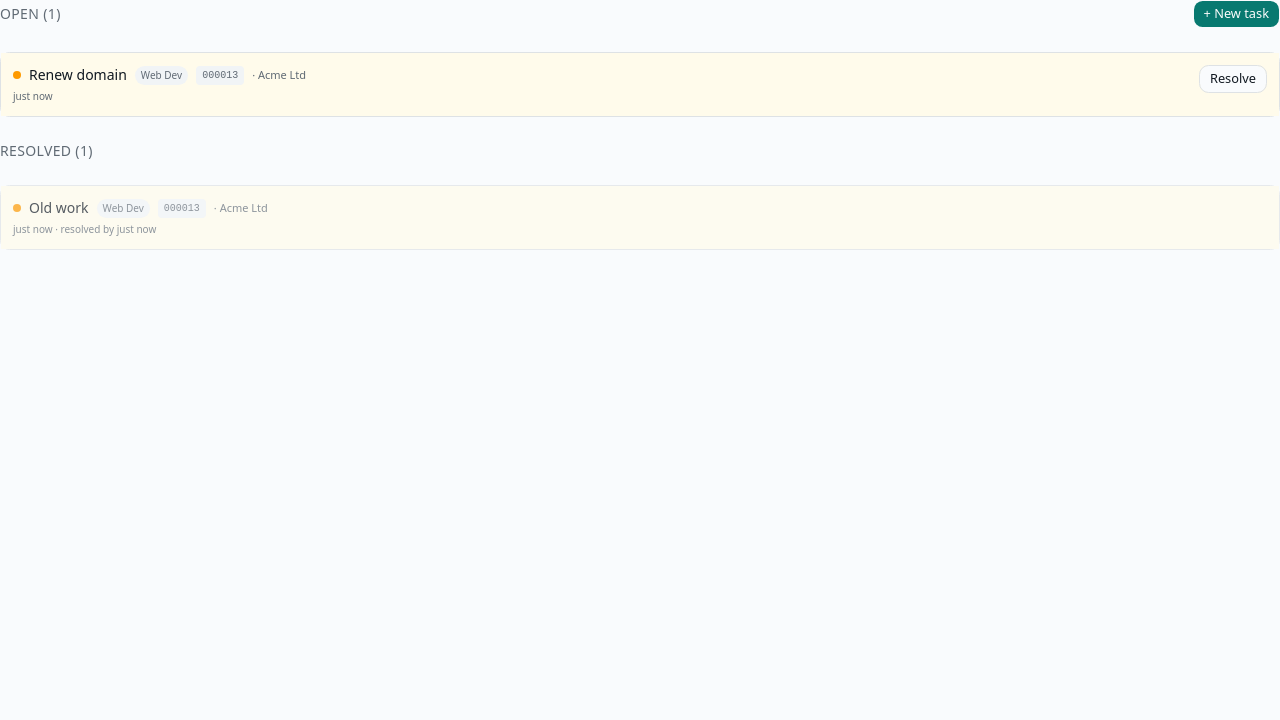
Test: AssignedTasksTab › clicking the row opens the detail dialog
Step 1. Click the button "Renew domain Web Dev 000013 · Acme Ltd just now Resolve" → (78,74), box x1=1 y1=53 x2=1279 y2=116
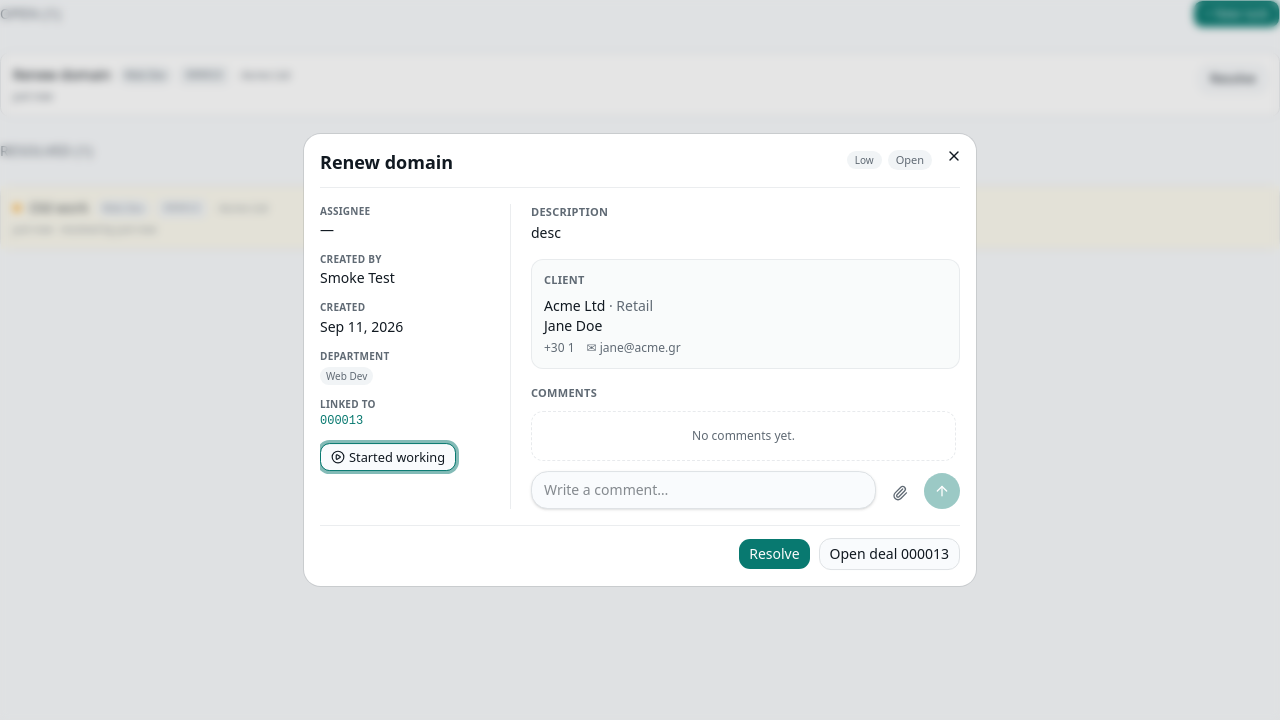
Now the dialog is shown, box x1=304 y1=134 x2=976 y2=586
